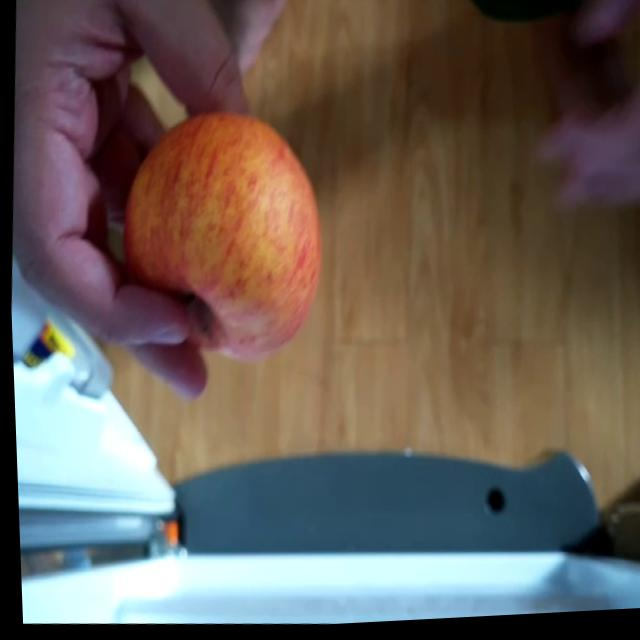apple: (106, 103, 333, 373)
